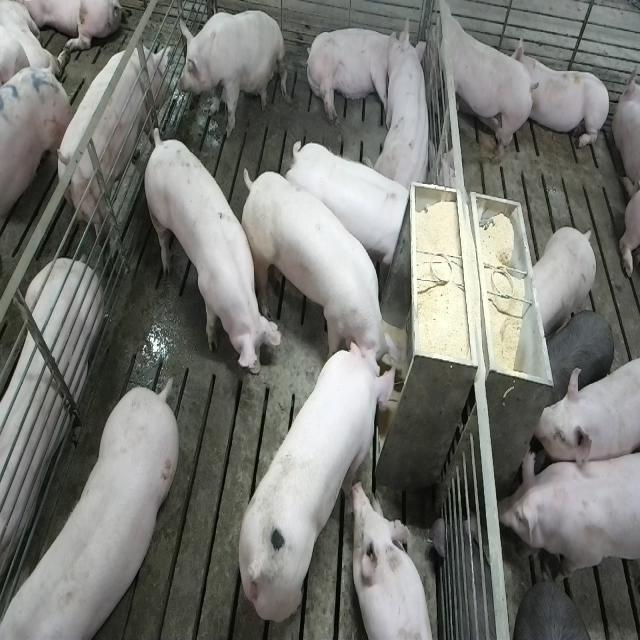Feeding: (235, 337, 401, 624), (238, 166, 406, 387)
Lateral_lying: (303, 21, 408, 128)
Sitting: (176, 8, 285, 138)
Standing: (0, 382, 176, 640), (143, 126, 281, 385), (59, 44, 174, 258), (499, 448, 639, 593), (283, 139, 412, 278), (432, 0, 537, 167), (536, 356, 640, 468), (530, 226, 597, 338), (539, 308, 614, 408)
Sternal_lying: (0, 260, 101, 606), (352, 481, 438, 640), (518, 38, 612, 156), (376, 26, 434, 194)
